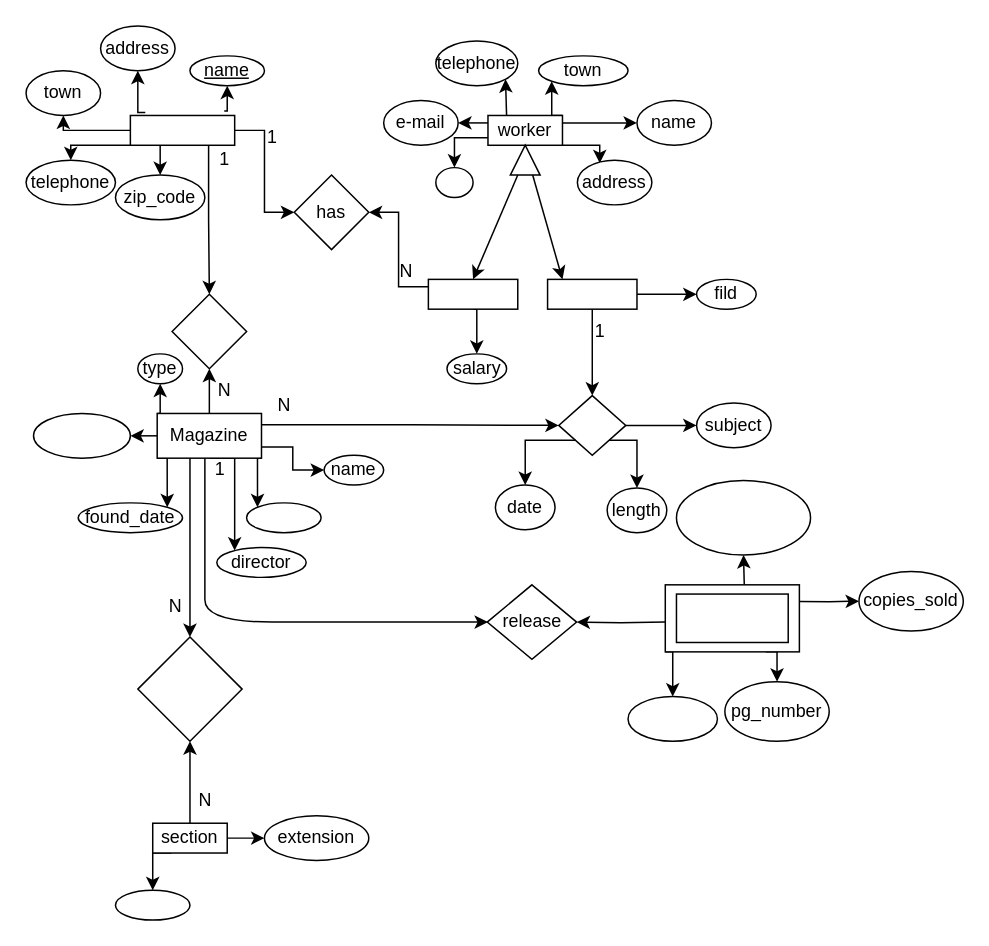
This 989x946 diagram has some shape labels left out. Here are the shapes that lost their labels. From the top down, the centre of each, then its label:
At (x=182, y=129): "Branch".
At (x=453, y=181): "ID".
At (x=472, y=293): "Employer".
At (x=591, y=293): "Journalist".
At (x=209, y=331): "publish".
At (x=81, y=435): "frecuency".
At (x=591, y=424): "article".
At (x=283, y=517): "code".
At (x=743, y=517): "edition_number".
At (x=731, y=617): "Edition".
At (x=189, y=688): "belongs to".
At (x=672, y=718): "ed_date".
At (x=152, y=904): "title".
